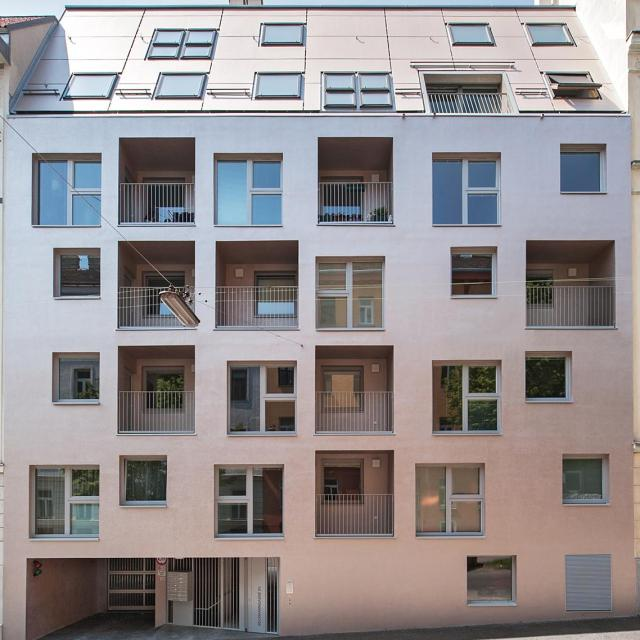door: (166, 558, 278, 635)
railing: (527, 277, 617, 325), (218, 285, 301, 328), (318, 492, 398, 535), (318, 391, 397, 433), (119, 180, 198, 221), (322, 181, 397, 223), (124, 391, 199, 431), (123, 287, 193, 327), (431, 90, 519, 114)
window: (217, 460, 287, 539), (228, 356, 296, 434), (418, 460, 487, 536), (434, 358, 501, 436), (29, 465, 99, 538), (432, 153, 501, 227), (214, 151, 280, 228), (317, 254, 383, 329), (37, 155, 99, 228), (564, 556, 613, 614), (564, 454, 610, 504), (469, 555, 516, 603), (325, 73, 393, 104), (124, 455, 165, 505), (452, 249, 496, 295), (57, 351, 99, 398), (58, 248, 101, 292), (562, 143, 602, 190), (525, 356, 567, 400), (148, 32, 216, 59), (546, 71, 600, 98), (326, 454, 362, 490), (64, 67, 118, 91), (144, 364, 188, 391), (155, 73, 205, 96), (527, 17, 576, 39), (257, 73, 301, 97), (449, 18, 497, 39), (262, 23, 306, 43), (325, 369, 363, 391), (255, 268, 297, 283), (146, 267, 185, 282)
